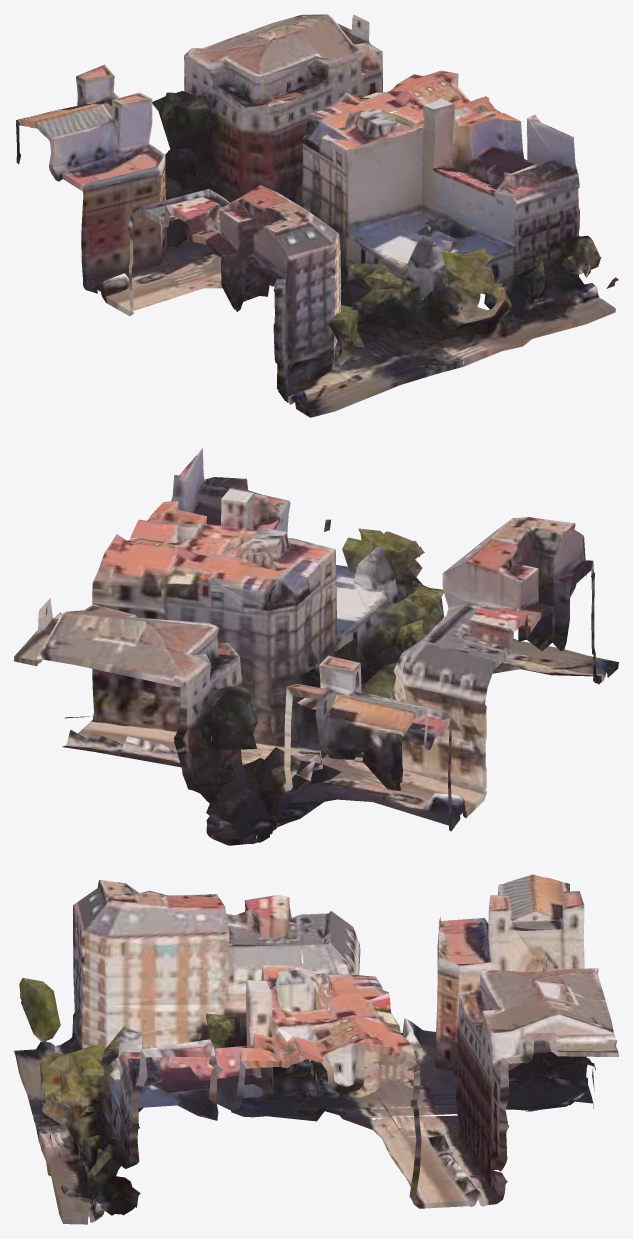
3 renders of one model, top to bottom at view 1: azimuth 30°, elevation 25°; view 2: azimuth 150°, elevation 25°; view 3: azimuth 270°, elevation 25°, orthographic. The views are drawn at different scales.
Parts seen in each view (by area): view 1: Mesh_0; view 2: Mesh_0; view 3: Mesh_0.
Boxes of the visible parts, bbox=[...] form: Mesh_0: bbox=[16, 14, 618, 417]; Mesh_0: bbox=[14, 447, 618, 845]; Mesh_0: bbox=[14, 874, 618, 1224].
Bounding box in the file's own units: 67.49 × 30.58 × 82.62.
Materials: 1 (1 with a texture image).
